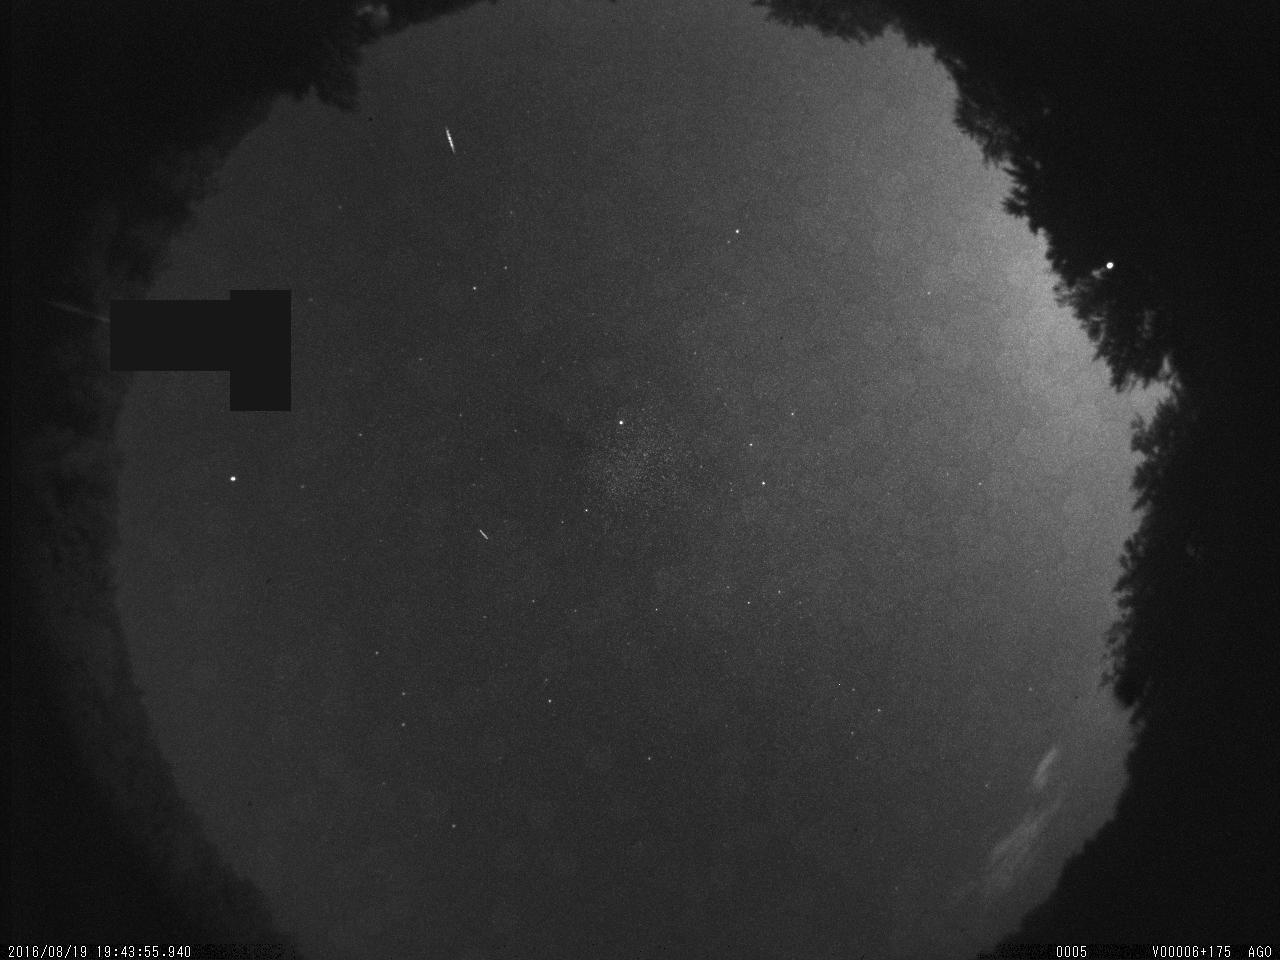meteor: (424, 119, 485, 169), (466, 518, 505, 550)
